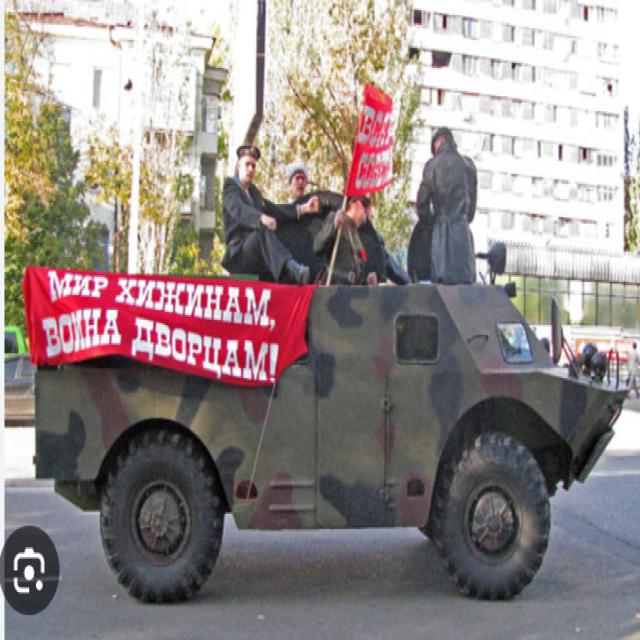MIL_APC: (23, 231, 622, 618)
